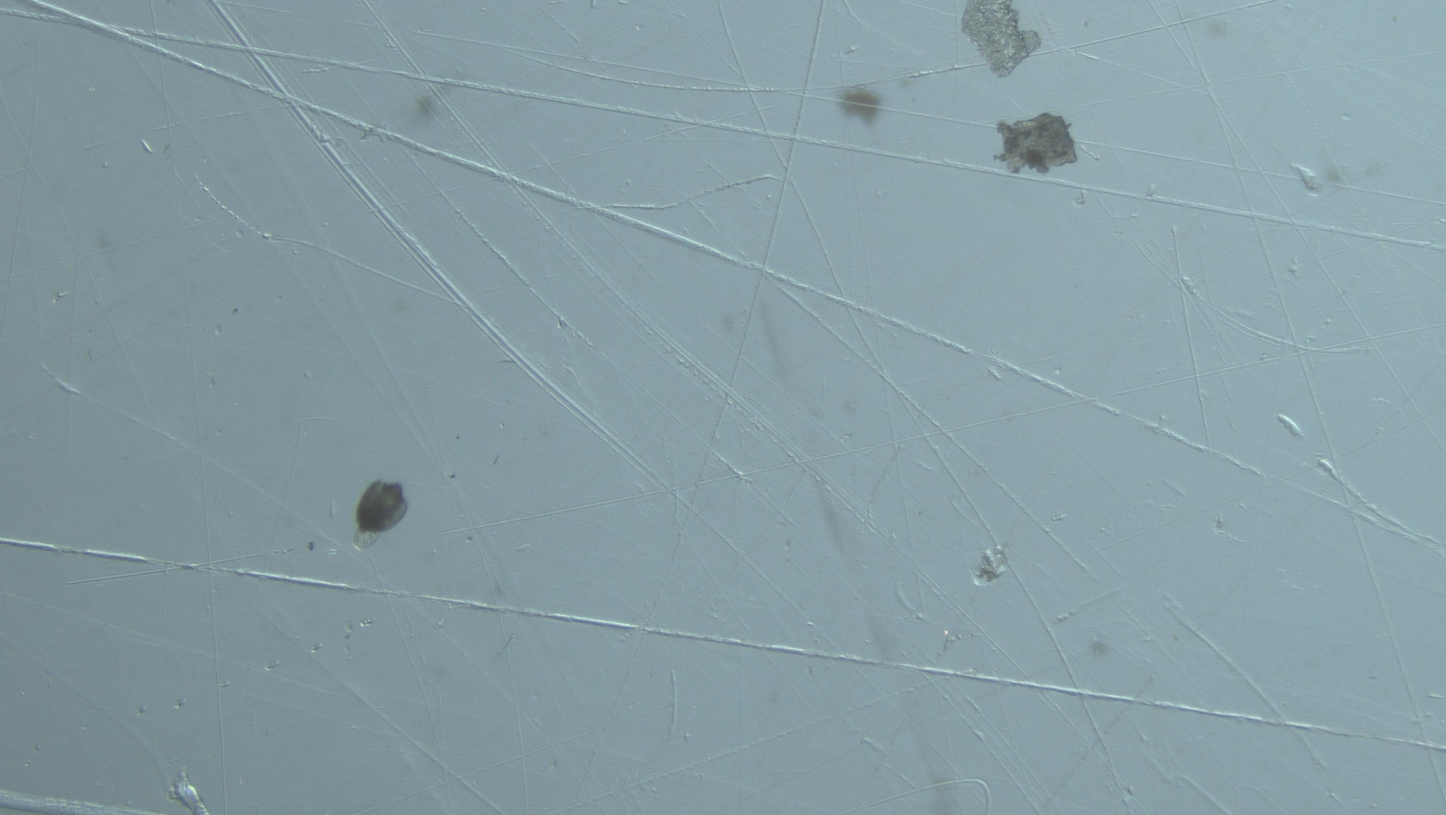live: (352, 480, 409, 550)
